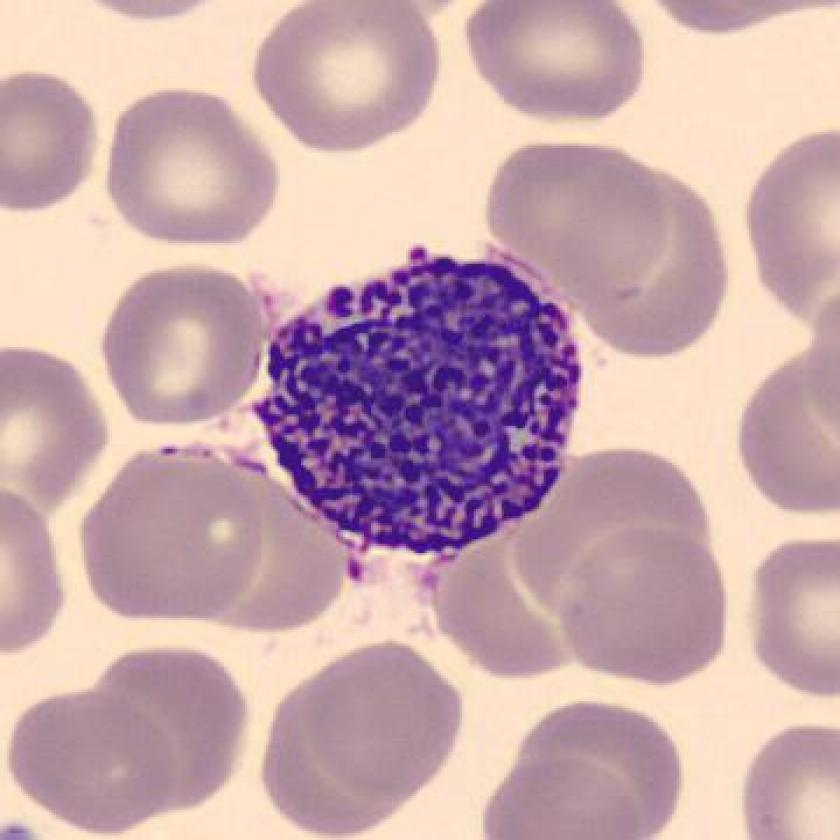basophil: (260, 249, 582, 552)
